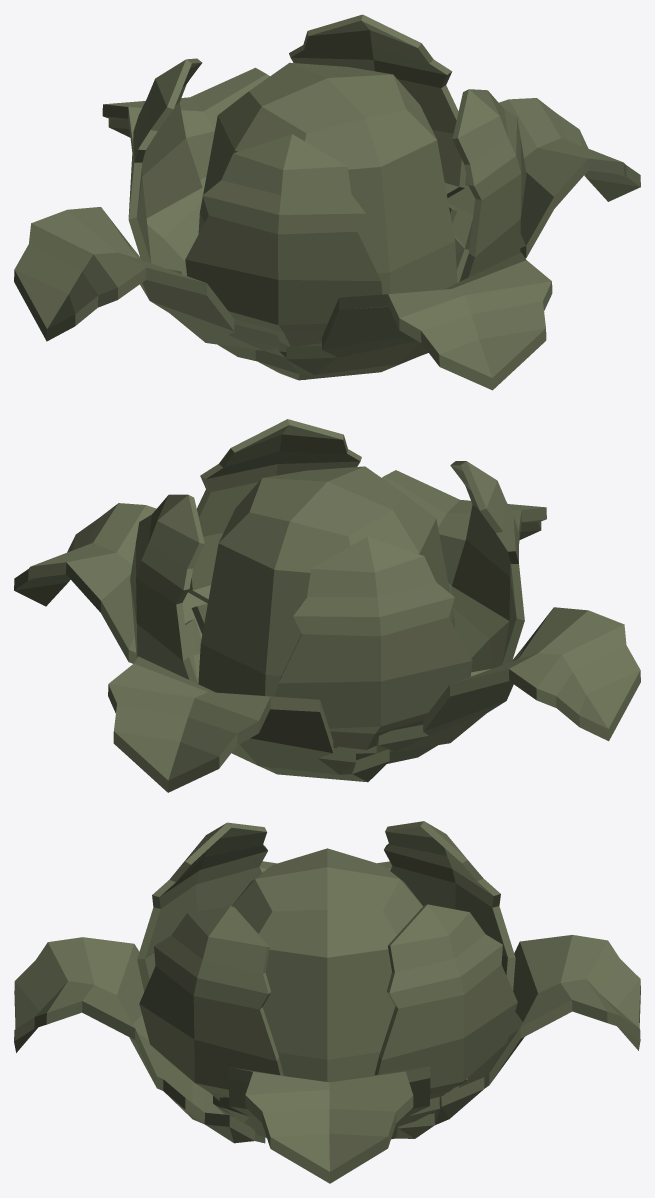
File: lettuce_4.glb
3 renders of one model, top to bottom at view 1: azimuth 30°, elevation 25°; view 2: azimuth 150°, elevation 25°; view 3: azimuth 270°, elevation 25°, orthographic. The views are drawn at different scales.
Visible parts, largest first — view 1: Lettuce_4; view 2: Lettuce_4; view 3: Lettuce_4.
Boxes of the visible parts, x1,y1,x2,y2 form: Lettuce_4: (14,14,640,390); Lettuce_4: (14,419,640,792); Lettuce_4: (14,821,640,1183).
Size of the model in its own units: 1.04 by 0.4742 by 1.04.
